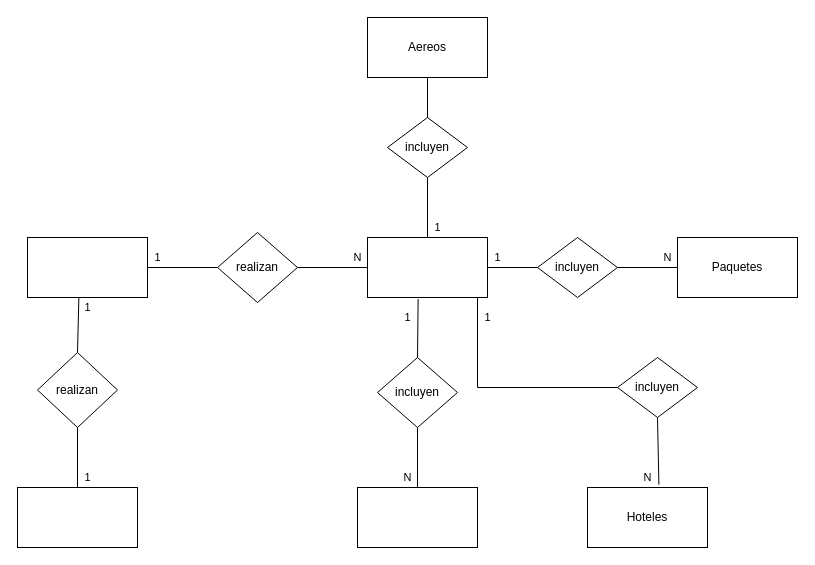
Image size: 815x565. Some labels were removed from this diagram. Each missing label, with the centre of its shape:
Clientes: point (87, 267)
Destinos: point (417, 517)
Pagos: point (77, 517)
Reservas: point (427, 267)
